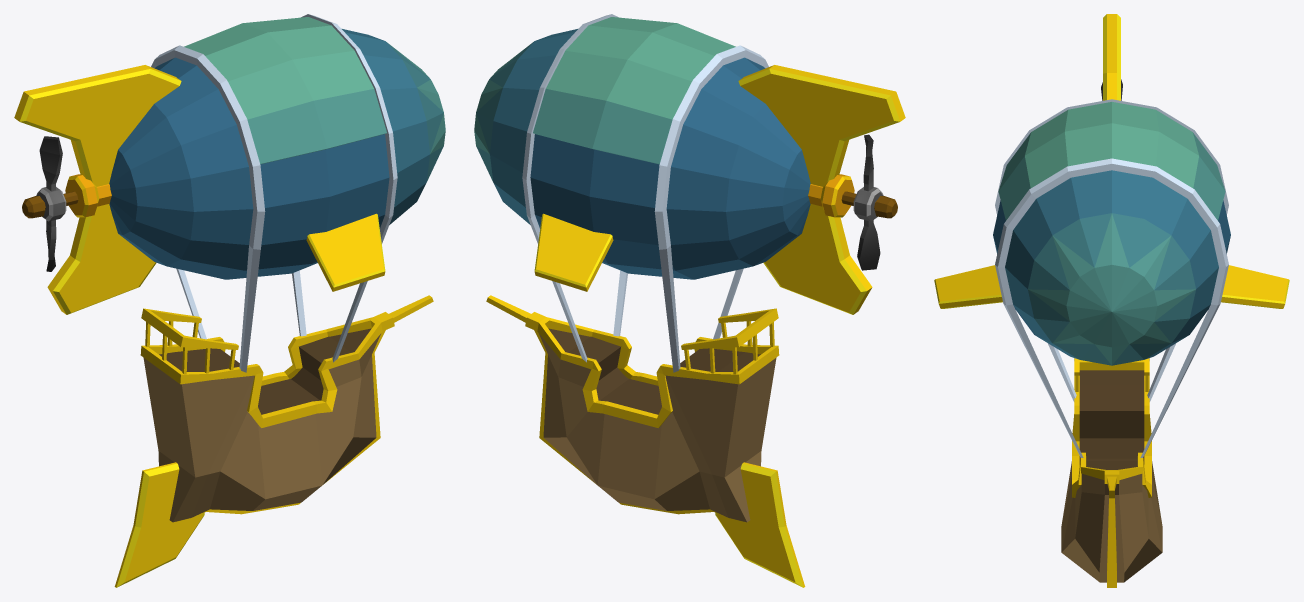
The model's file is Runestrife-Enemy-Airship.fbx.
3 views of the same model, side by side, from view 1: azimuth 30°, elevation 25°; view 2: azimuth 150°, elevation 25°; view 3: azimuth 270°, elevation 25° (orthographic). The views are drawn at different scales.
Parts seen in each view (by area): view 1: Airship, Prop; view 2: Airship, Prop; view 3: Airship.
Part boxes in pixels (x1,y1,x2,y2): Airship: (14,14,445,587); Prop: (36,136,66,271); Airship: (474,14,905,587); Prop: (853,134,883,270); Airship: (934,14,1289,587).
Bounding box in the file's own units: 361 × 428 × 282.
